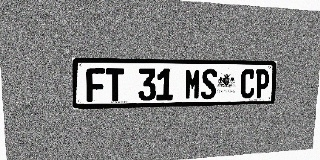1: (156, 68, 173, 100)
3: (139, 68, 156, 101)
C: (240, 69, 256, 99)
F: (86, 68, 105, 102)
M: (184, 69, 201, 100)
P: (254, 69, 270, 98)
S: (201, 69, 217, 99)
T: (106, 68, 124, 102)
